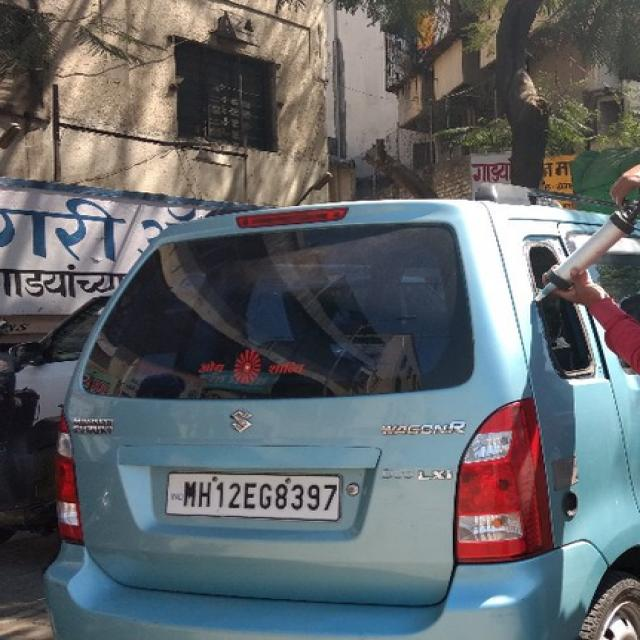Number-Plate: (168, 476, 343, 517)
